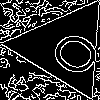O: (39, 23, 100, 81)
